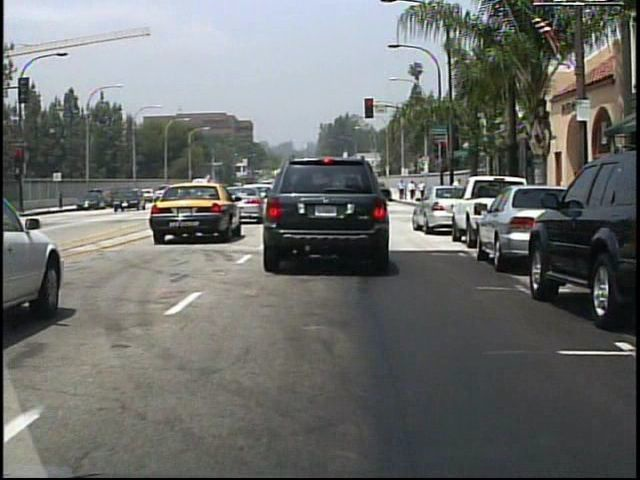person: (449, 177, 467, 215), (398, 178, 406, 200), (409, 180, 417, 202), (419, 180, 427, 200)
